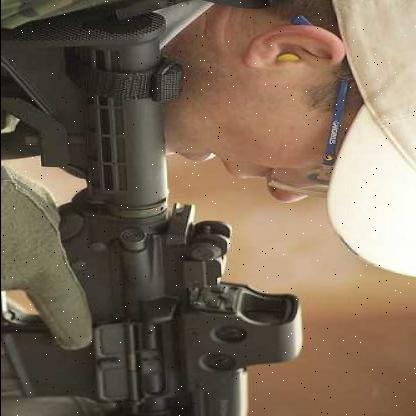rifle: (1, 12, 306, 415)
